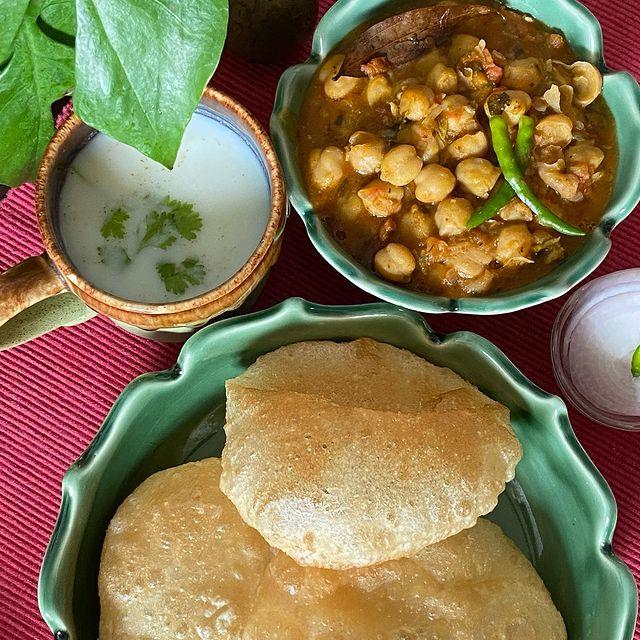Chole: (270, 0, 622, 296)
